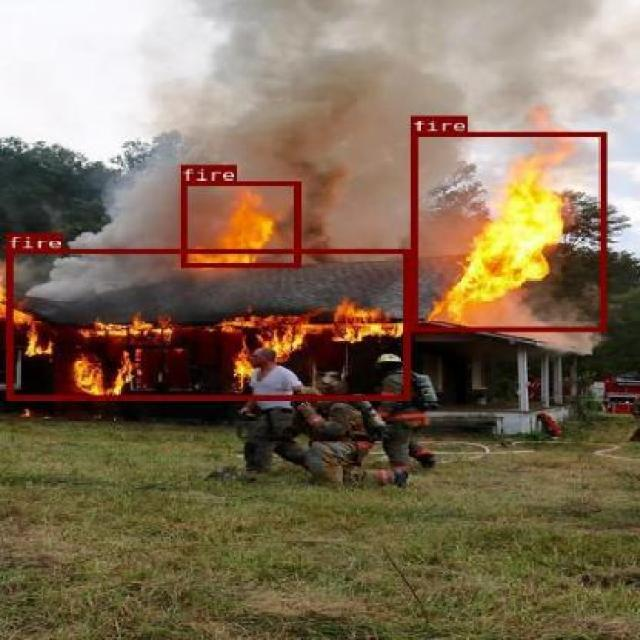Fire: (4, 248, 410, 399), (410, 132, 604, 330), (179, 180, 299, 268)
